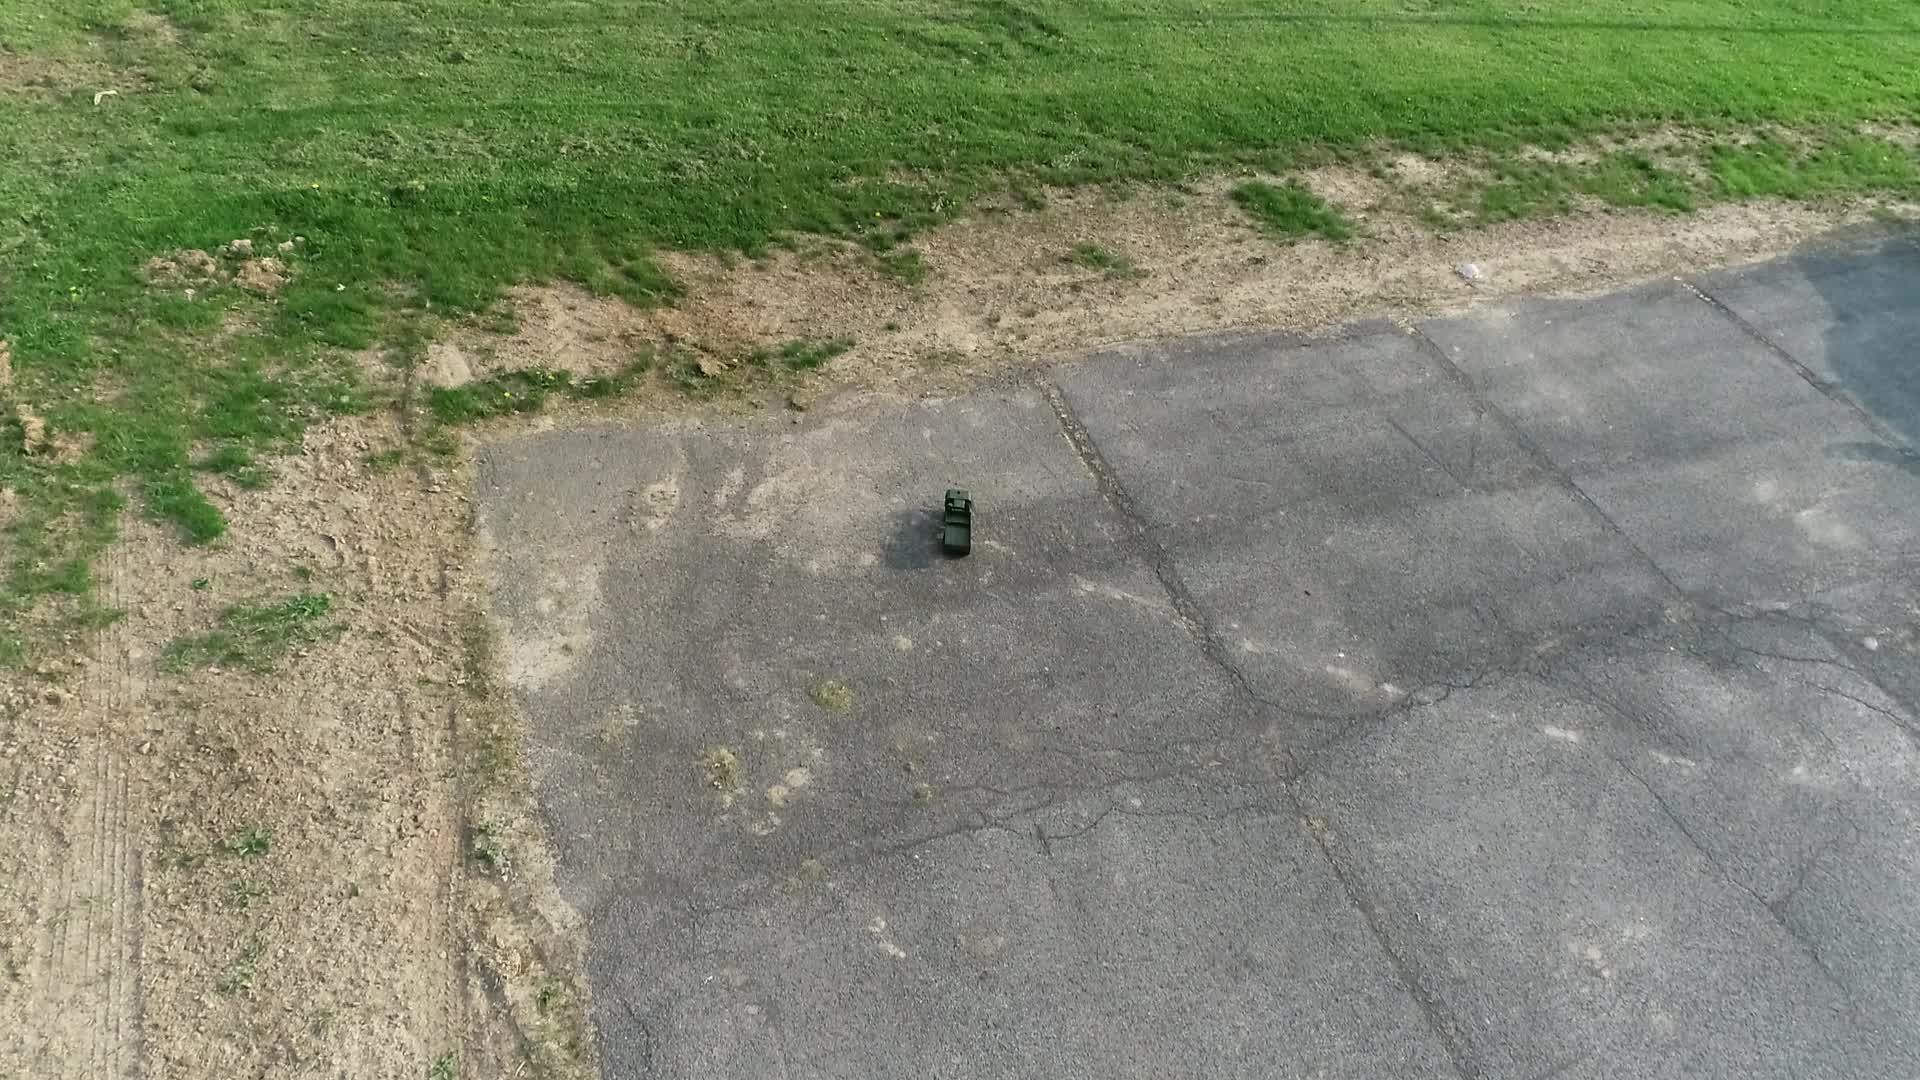transporter9: (938, 487, 975, 558)
